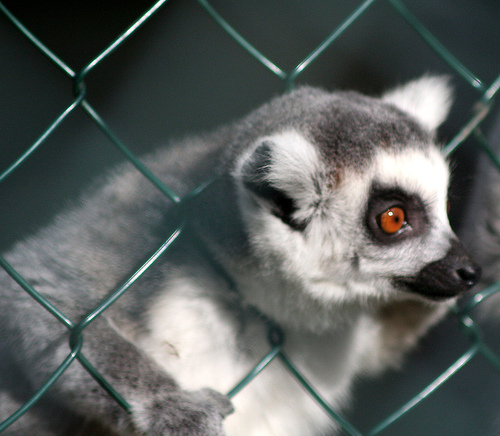cat: (1, 69, 482, 434)
